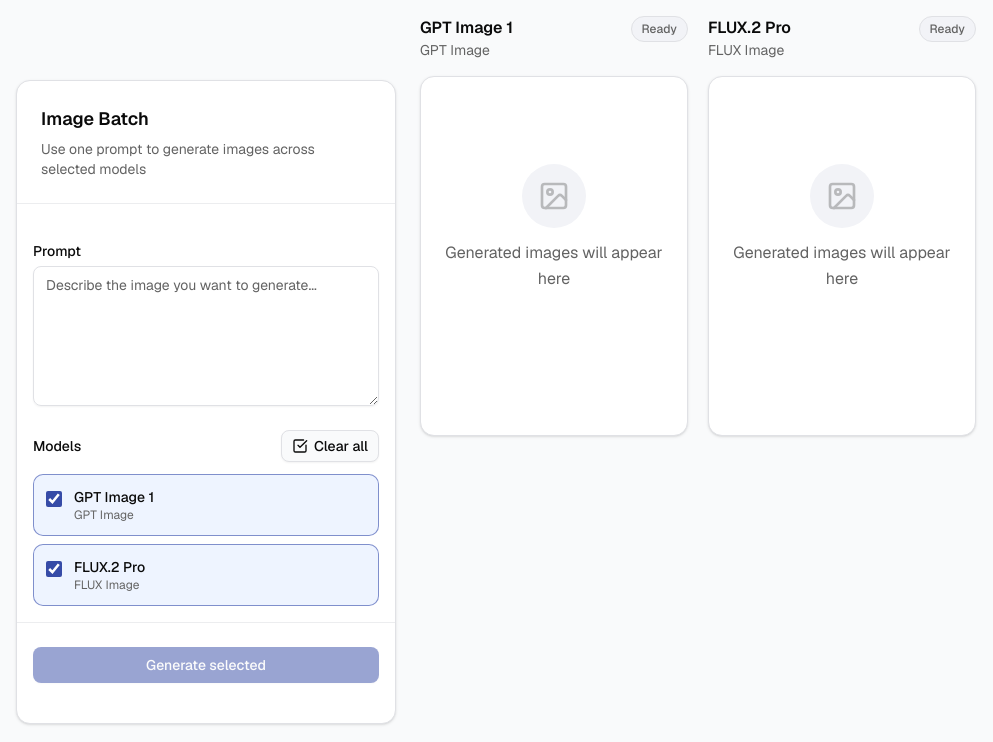
Test: BatchImageGenerationPage › keeps successful model results when another selected model fails
Type "A mountain lake" into the text box with placeholder "Describe the image you want to generate...".
click(206, 336); type("A mountain lake")  # box [33,266,379,406]
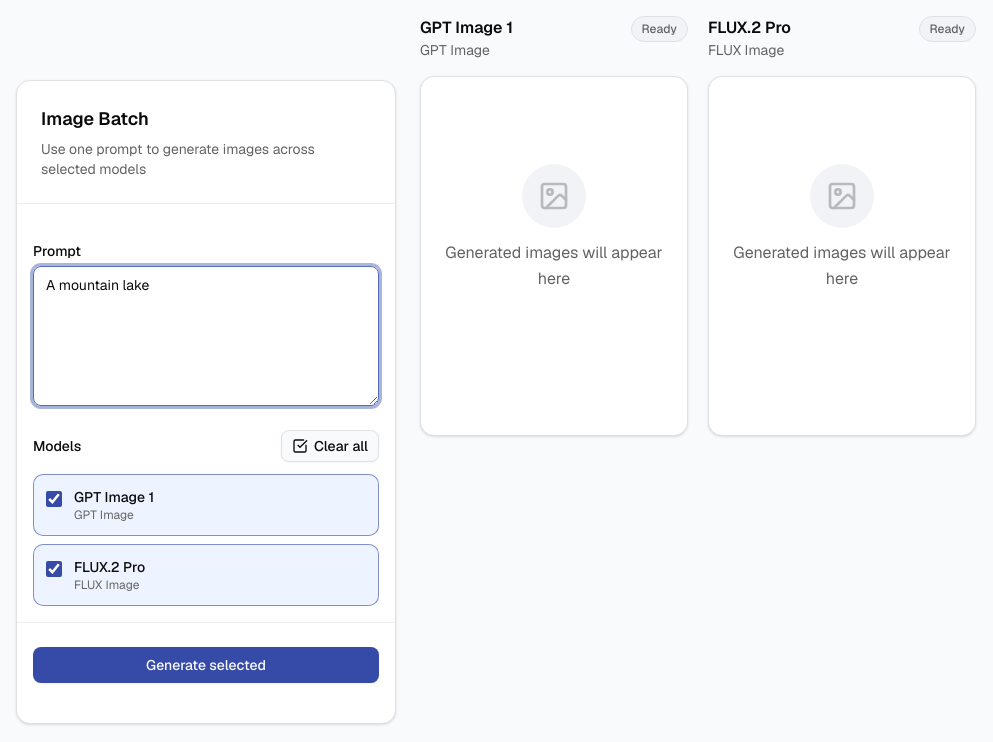
Click the button "Generate selected".
click(206, 665)  # box [33,647,379,683]
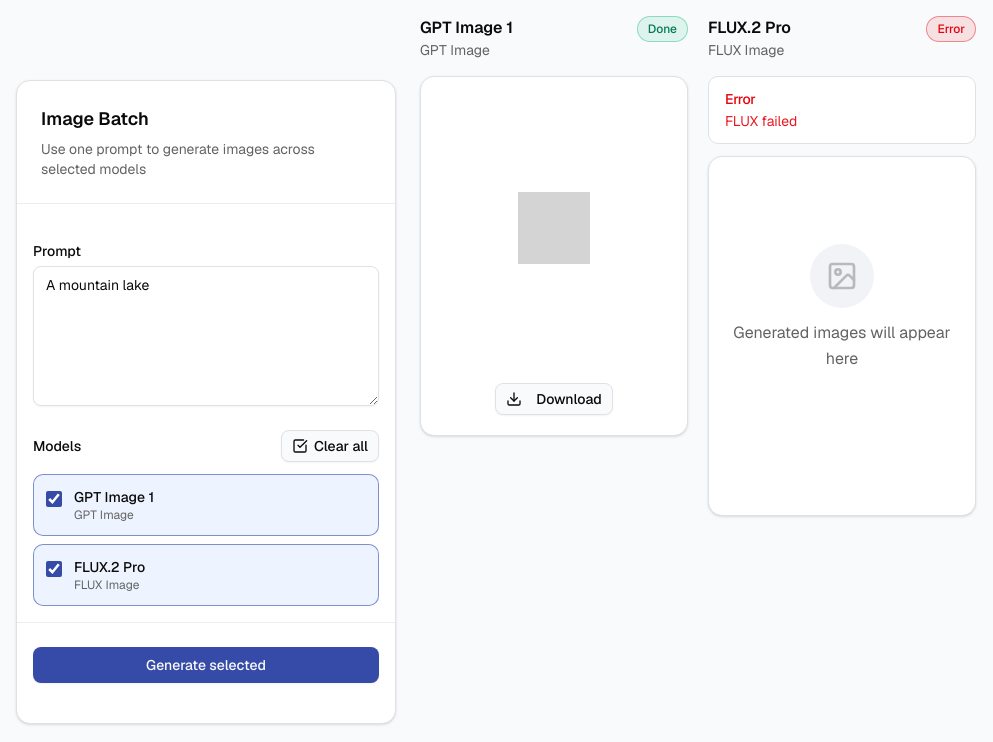
Expected: the text "FLUX failed" is shown, [725,112,797,130]
Expected: the text "Done" is shown, [637,16,688,42]
